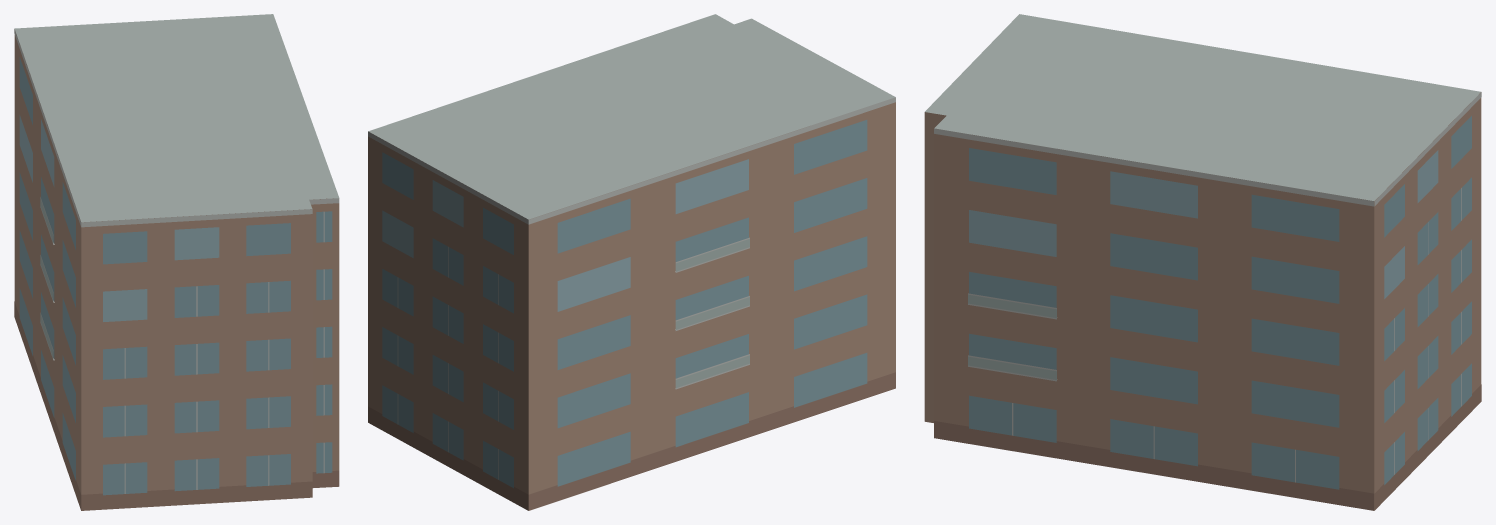
Rendered from survey-upis-32992066.glb.
The picture shows the model from 3 angles, left to right: view 1: azimuth 30°, elevation 25°; view 2: azimuth 150°, elevation 25°; view 3: azimuth 270°, elevation 25°; orthographic projection. The views are drawn at different scales.
Visible parts, largest first — view 1: survey-upis-32992066.tmp; view 2: survey-upis-32992066.tmp; view 3: survey-upis-32992066.tmp.
Boxes of the visible parts, box(x1,y1,x2,y2) form: survey-upis-32992066.tmp: box(14, 14, 339, 510); survey-upis-32992066.tmp: box(368, 14, 895, 510); survey-upis-32992066.tmp: box(924, 14, 1481, 510).
Bounding box in the file's own units: 18.09 × 13.95 × 22.74.
